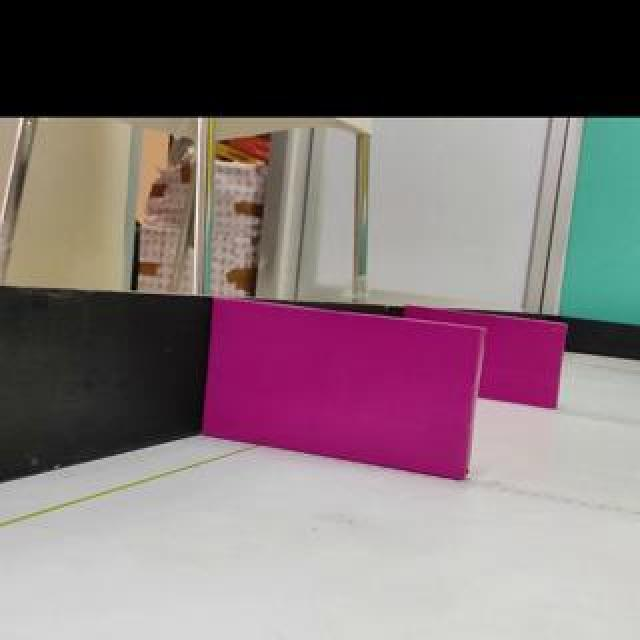xparking: (203, 296, 483, 481), (481, 315, 567, 408)
